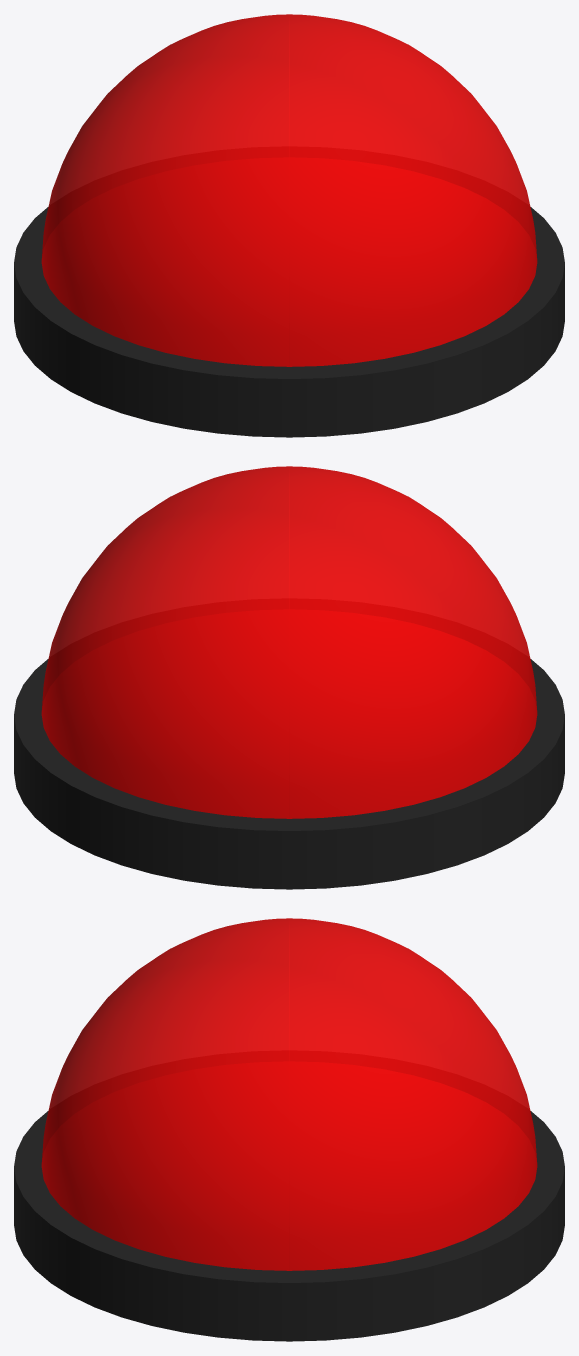
Rendered from Arena Button.fbx.
The picture shows the model from 3 angles, top to bottom: view 1: azimuth 30°, elevation 25°; view 2: azimuth 150°, elevation 25°; view 3: azimuth 270°, elevation 25°; orthographic projection.
Parts seen in each view (by area): view 1: Group1, Group2; view 2: Group1, Group2; view 3: Group1, Group2.
Boxes of the visible parts, x1,y1,x2,y2 form: Group1: (41, 14, 537, 366); Group2: (14, 207, 564, 437); Group1: (41, 466, 537, 818); Group2: (14, 659, 564, 889); Group1: (41, 918, 537, 1270); Group2: (14, 1111, 564, 1341).
Size of the model in its own units: 84.6 by 48.07 by 84.6.
